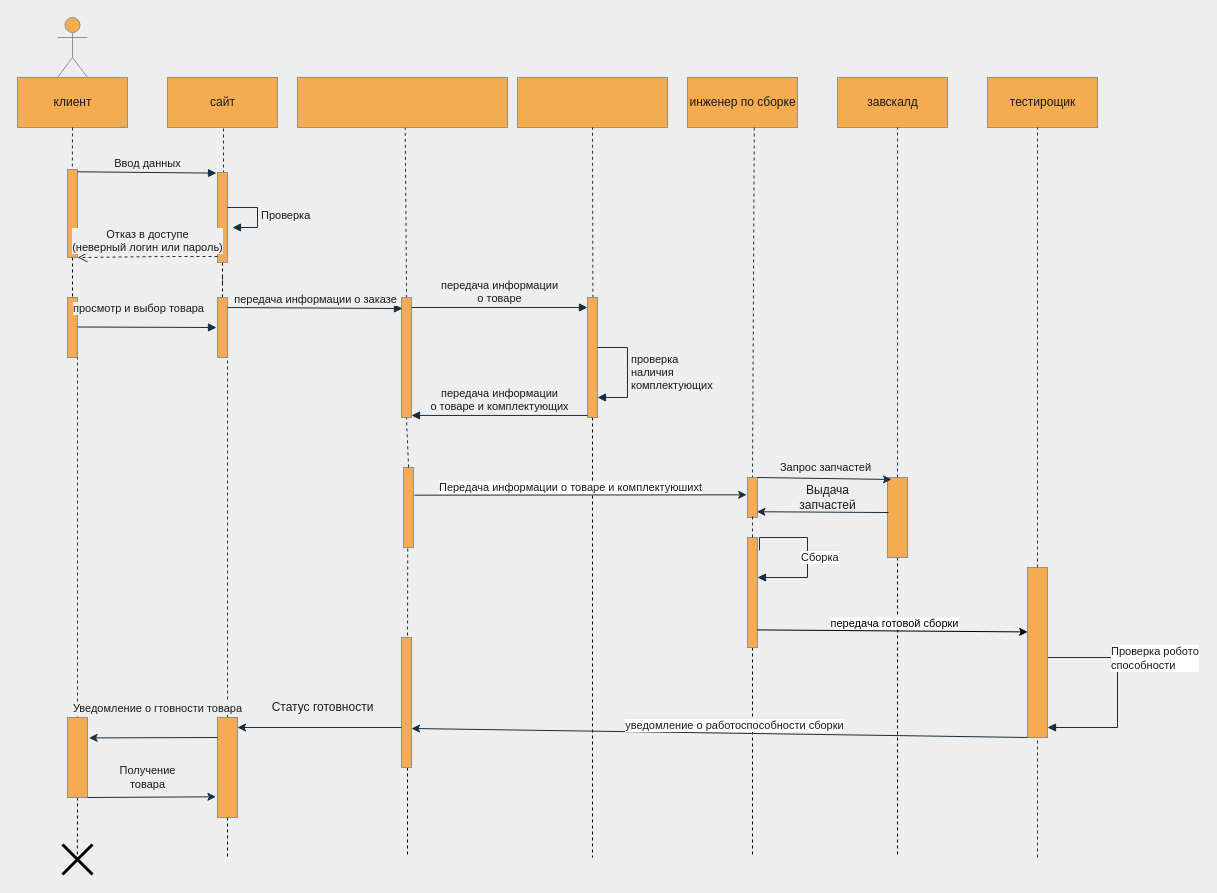
Image size: 1217x893. Some labels were removed from this diagram. The centre of each missing label's shape, as x and y in pixels:
менеджаер по снабжению: the point at 592,102
менеджер по работе с клиентами: the point at 402,102
